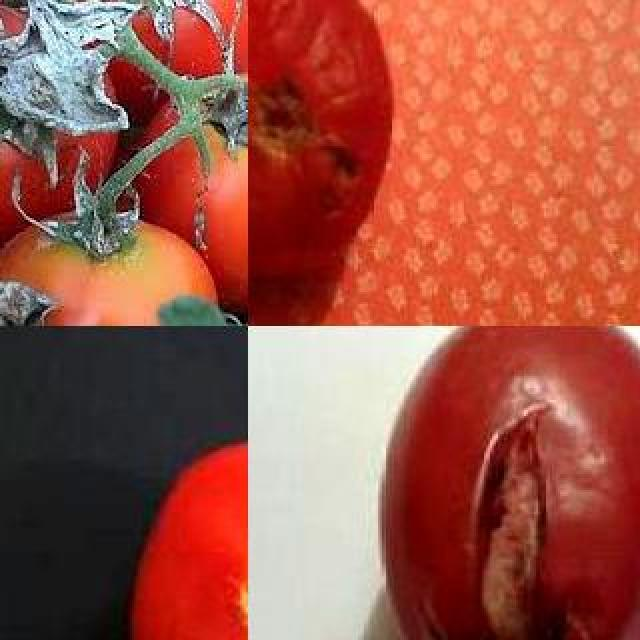Rotten_Tomato: (370, 326, 640, 640), (248, 0, 406, 300), (118, 420, 248, 640), (140, 72, 248, 314)
